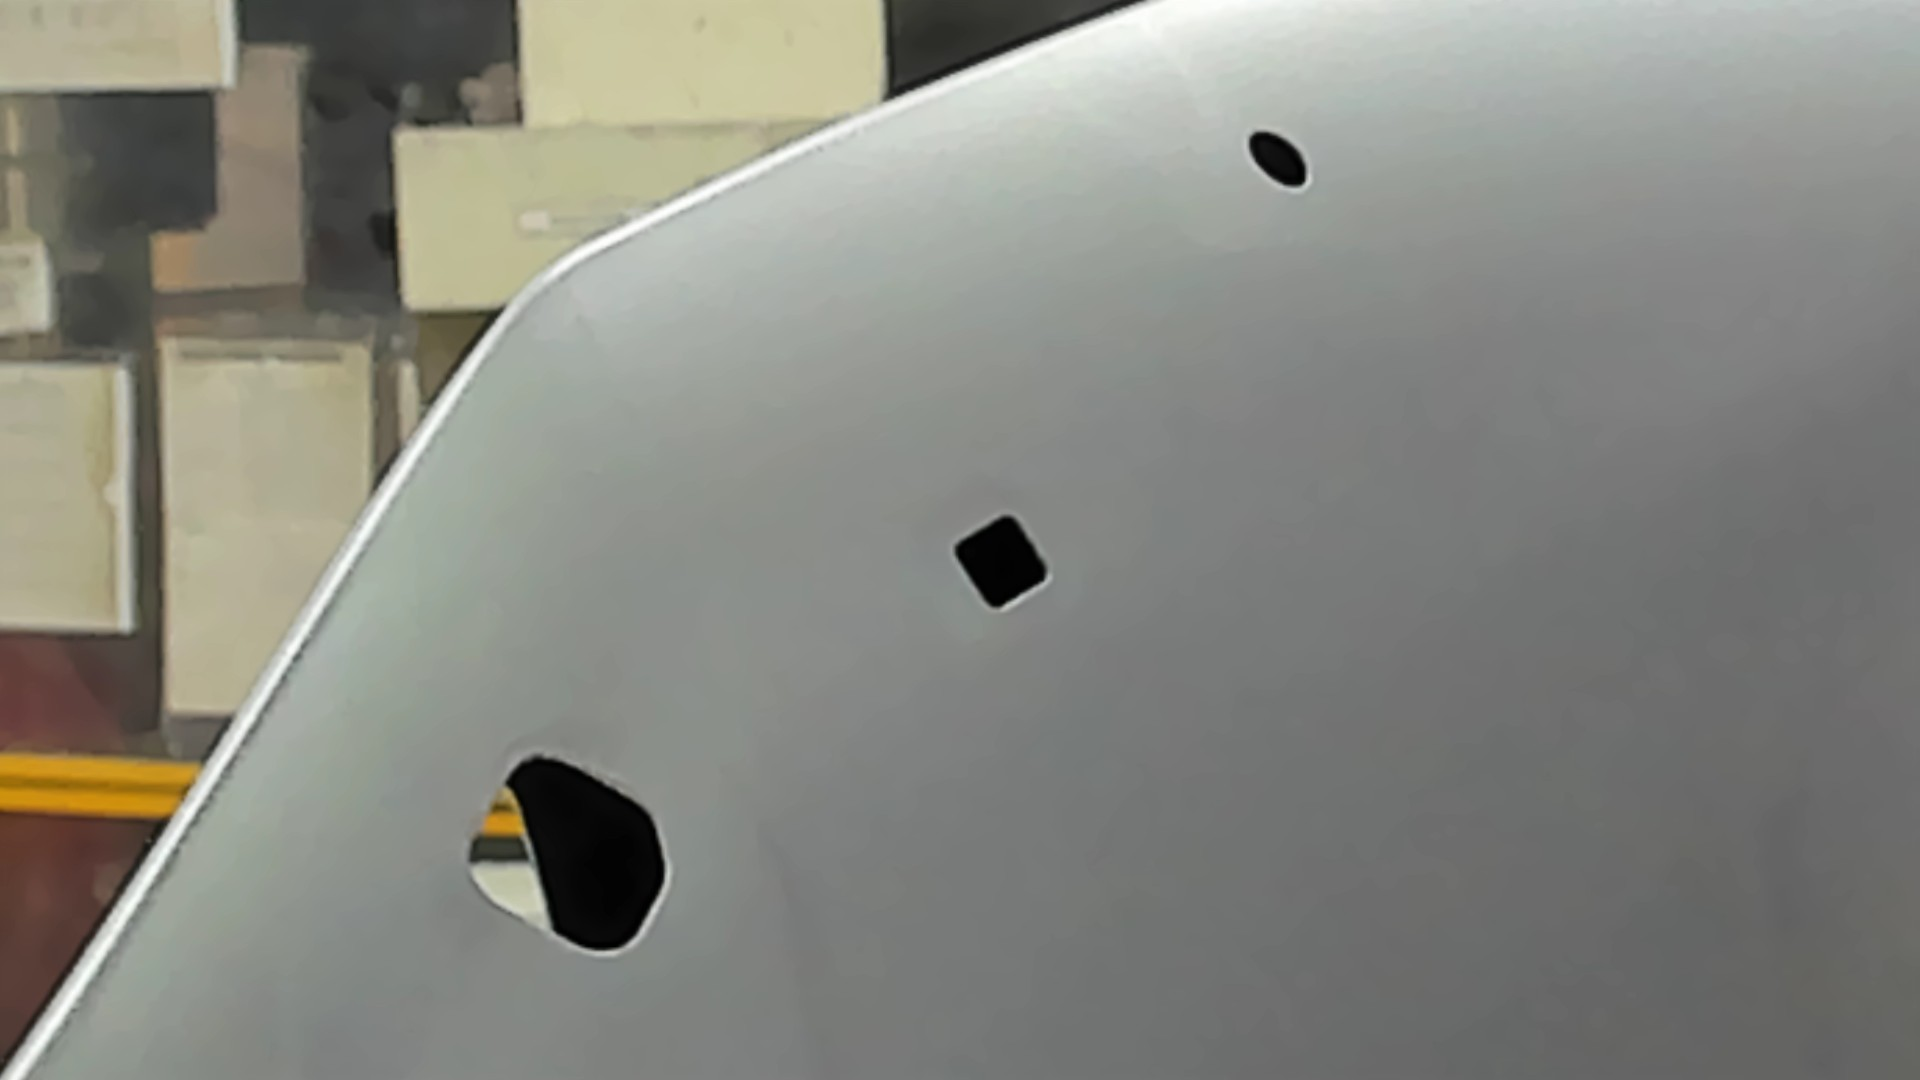chico: (1244, 123, 1315, 196)
grande: (458, 744, 679, 963)
mediano: (947, 508, 1058, 618)
